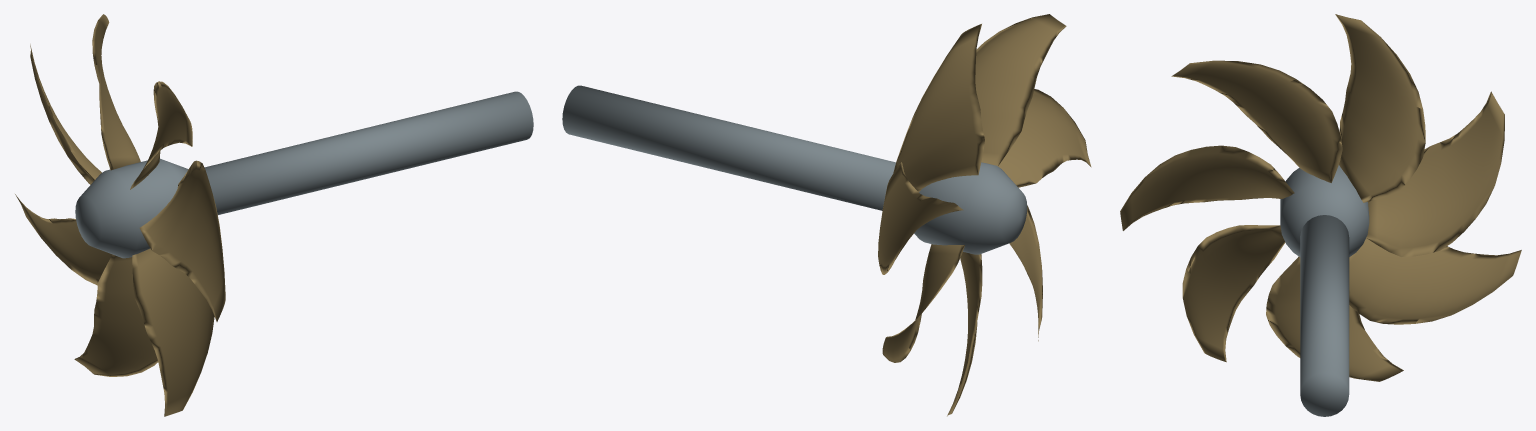
Rendered from RU_PROP_Akula_LOD0.fbx.
3 views of the same model, side by side, from view 1: azimuth 30°, elevation 25°; view 2: azimuth 150°, elevation 25°; view 3: azimuth 270°, elevation 25° (orthographic). The views are drawn at different scales.
Visible parts, largest first — view 1: RU_PROP_Akula_LOD0_Shaft.001, RU_PROP_Akula_LOD0_Blade_04.001, RU_PROP_Akula_LOD0_Blade_03.001, RU_PROP_Akula_LOD0_Hub.001, RU_PROP_Akula_LOD0_Blade_05.001, RU_PROP_Akula_LOD0_Blade_06.001, RU_PROP_Akula_LOD0_Blade_01.001, RU_PROP_Akula_LOD0_Blade_02.001, RU_PROP_Akula_LOD0_Blade_00.001; view 2: RU_PROP_Akula_LOD0_Shaft.001, RU_PROP_Akula_LOD0_Blade_01.001, RU_PROP_Akula_LOD0_Blade_02.001, RU_PROP_Akula_LOD0_Hub.001, RU_PROP_Akula_LOD0_Blade_03.001, RU_PROP_Akula_LOD0_Blade_00.001, RU_PROP_Akula_LOD0_Blade_06.001, RU_PROP_Akula_LOD0_Blade_05.001, RU_PROP_Akula_LOD0_Blade_04.001; view 3: RU_PROP_Akula_LOD0_Blade_00.001, RU_PROP_Akula_LOD0_Blade_01.001, RU_PROP_Akula_LOD0_Blade_06.001, RU_PROP_Akula_LOD0_Shaft.001, RU_PROP_Akula_LOD0_Blade_02.001, RU_PROP_Akula_LOD0_Blade_04.001, RU_PROP_Akula_LOD0_Blade_03.001, RU_PROP_Akula_LOD0_Hub.001, RU_PROP_Akula_LOD0_Blade_05.001.
Boxes of the visible parts, x1=… form: RU_PROP_Akula_LOD0_Shaft.001: x1=204, y1=91, x2=533, y2=214; RU_PROP_Akula_LOD0_Blade_04.001: x1=132, y1=248, x2=214, y2=416; RU_PROP_Akula_LOD0_Blade_03.001: x1=139, y1=160, x2=225, y2=321; RU_PROP_Akula_LOD0_Hub.001: x1=75, y1=158, x2=188, y2=258; RU_PROP_Akula_LOD0_Blade_05.001: x1=74, y1=254, x2=158, y2=376; RU_PROP_Akula_LOD0_Blade_06.001: x1=15, y1=194, x2=111, y2=285; RU_PROP_Akula_LOD0_Blade_01.001: x1=92, y1=14, x2=140, y2=170; RU_PROP_Akula_LOD0_Blade_02.001: x1=130, y1=81, x2=192, y2=189; RU_PROP_Akula_LOD0_Blade_00.001: x1=30, y1=44, x2=101, y2=184; RU_PROP_Akula_LOD0_Shaft.001: x1=562, y1=85, x2=895, y2=210; RU_PROP_Akula_LOD0_Blade_01.001: x1=893, y1=24, x2=984, y2=191; RU_PROP_Akula_LOD0_Blade_02.001: x1=975, y1=14, x2=1066, y2=166; RU_PROP_Akula_LOD0_Hub.001: x1=914, y1=162, x2=1027, y2=254; RU_PROP_Akula_LOD0_Blade_03.001: x1=998, y1=89, x2=1091, y2=187; RU_PROP_Akula_LOD0_Blade_00.001: x1=878, y1=162, x2=963, y2=274; RU_PROP_Akula_LOD0_Blade_06.001: x1=882, y1=244, x2=964, y2=362; RU_PROP_Akula_LOD0_Blade_05.001: x1=947, y1=252, x2=982, y2=416; RU_PROP_Akula_LOD0_Blade_04.001: x1=1009, y1=205, x2=1042, y2=341; RU_PROP_Akula_LOD0_Blade_00.001: x1=1366, y1=91, x2=1504, y2=256; RU_PROP_Akula_LOD0_Blade_01.001: x1=1335, y1=14, x2=1425, y2=202; RU_PROP_Akula_LOD0_Blade_06.001: x1=1349, y1=238, x2=1521, y2=324; RU_PROP_Akula_LOD0_Shaft.001: x1=1300, y1=215, x2=1349, y2=416; RU_PROP_Akula_LOD0_Blade_02.001: x1=1171, y1=60, x2=1342, y2=182; RU_PROP_Akula_LOD0_Blade_04.001: x1=1182, y1=225, x2=1285, y2=362; RU_PROP_Akula_LOD0_Blade_03.001: x1=1120, y1=145, x2=1294, y2=230; RU_PROP_Akula_LOD0_Hub.001: x1=1280, y1=165, x2=1369, y2=256; RU_PROP_Akula_LOD0_Blade_05.001: x1=1266, y1=256, x2=1403, y2=381.
Size of the model in its own units: 563 by 452 by 452.
